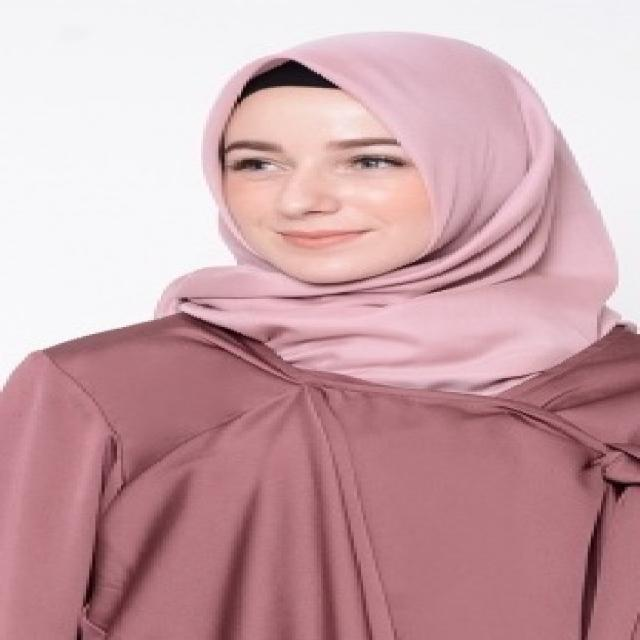head: (172, 31, 585, 287)
